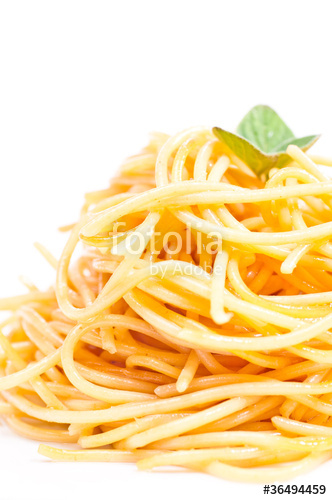plain spaghetti: (13, 127, 332, 482)
